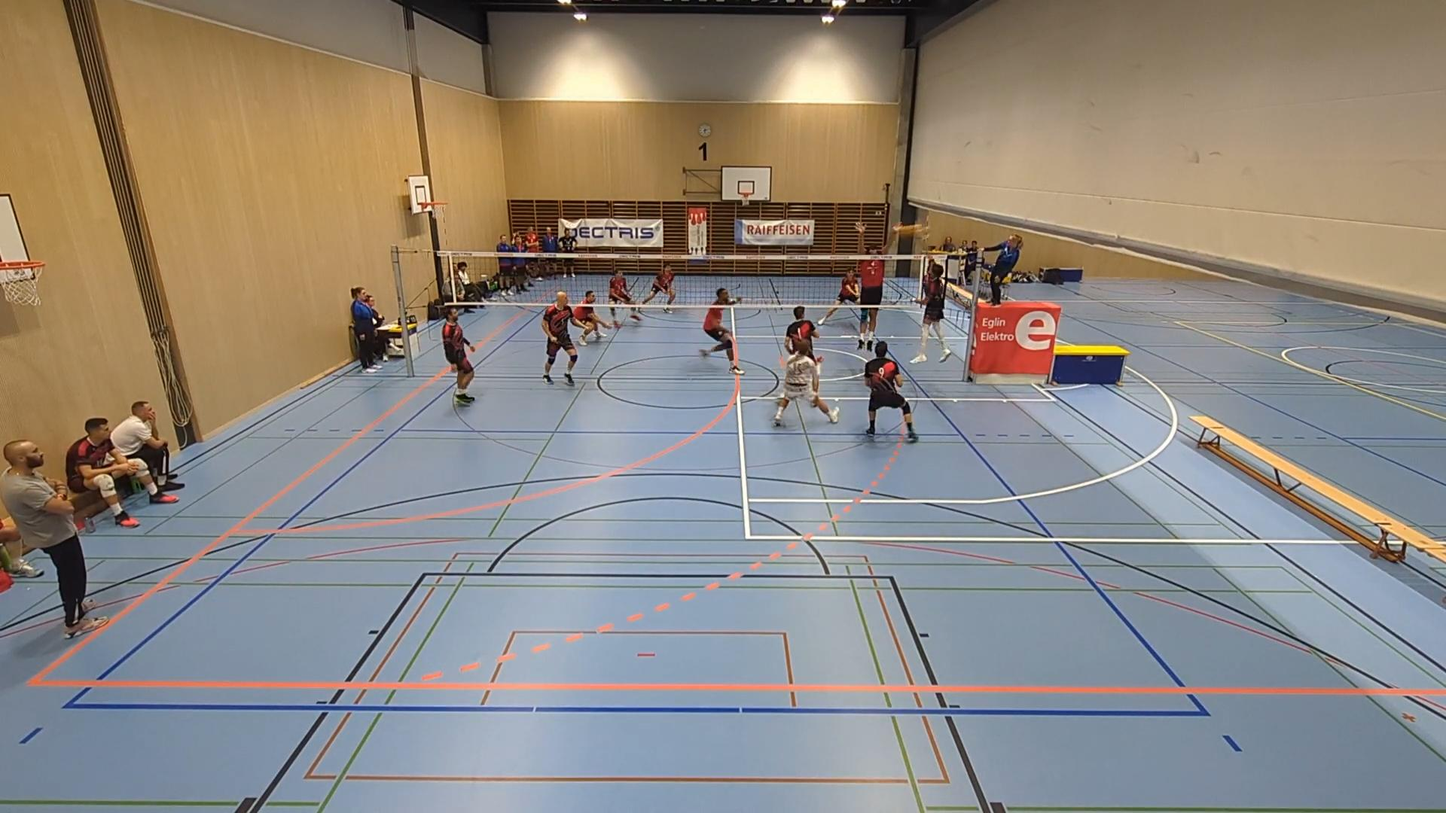attacco: (911, 233, 953, 371)
muro: (851, 220, 904, 353)
